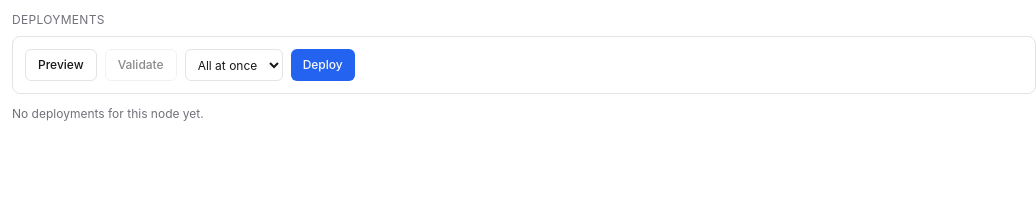
Test: the flow › previews the node's desired revision, not a placeholder
The image size is (1036, 202).
Click the button "Preview".
click(61, 65)  # box [25,49,97,81]
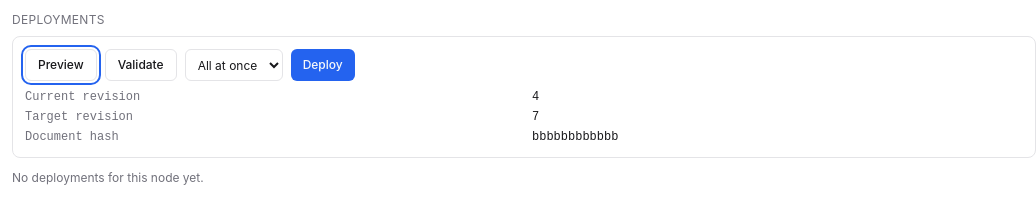
expect the text "7" is shown: met, box [532,110,539,124]
